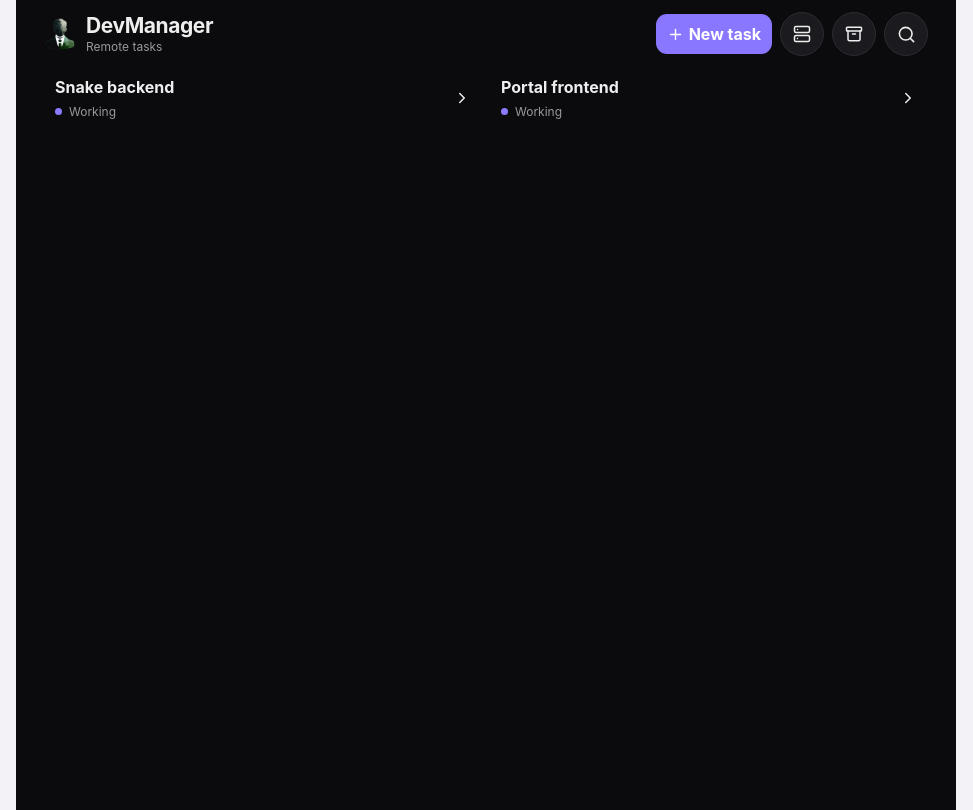
Test: NativeRemoteApp › clears the task filter when search is closed
The image size is (973, 810).
Click the button named "Search tasks" at (906, 34), box [884,12,928,56]
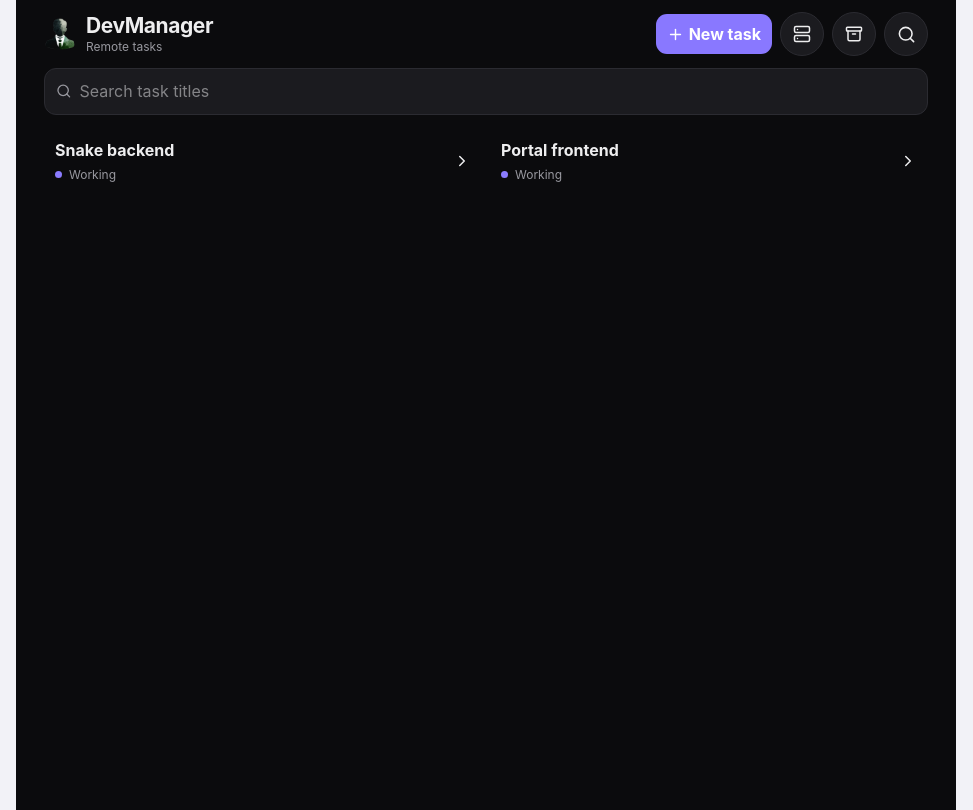
Type "snake" into the search field named "Search tasks" at (498, 91), box [80,69,916,114]
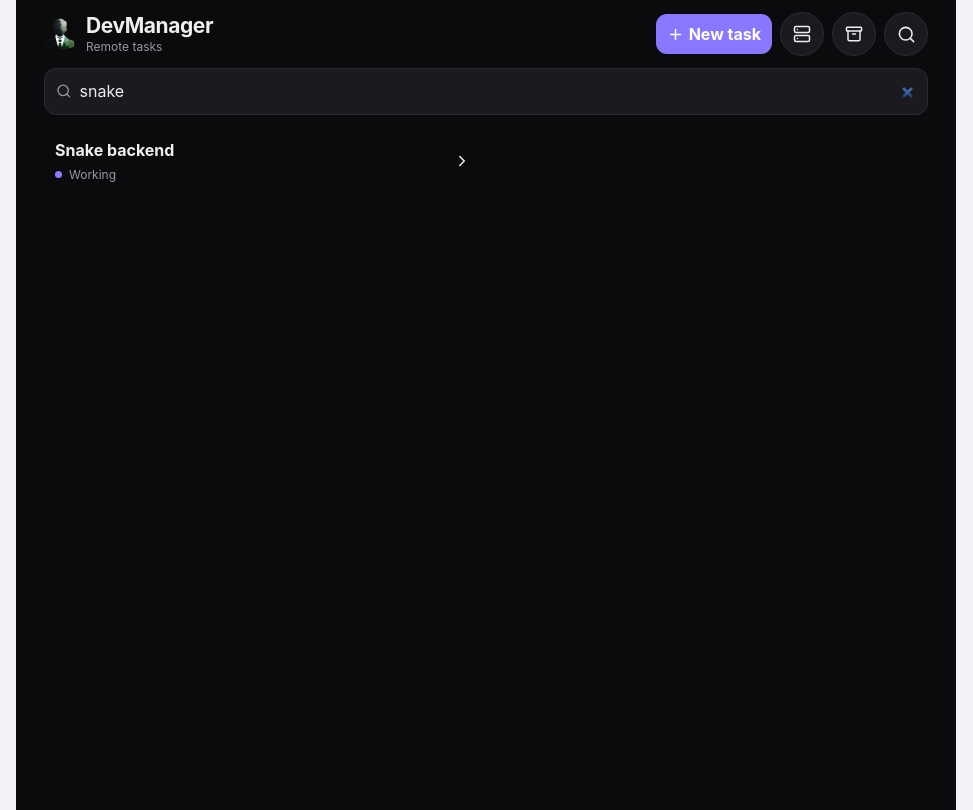
Result: the button "Portal frontend" is gone
Click the button named "Close task search" at (906, 34), box [884,12,928,56]
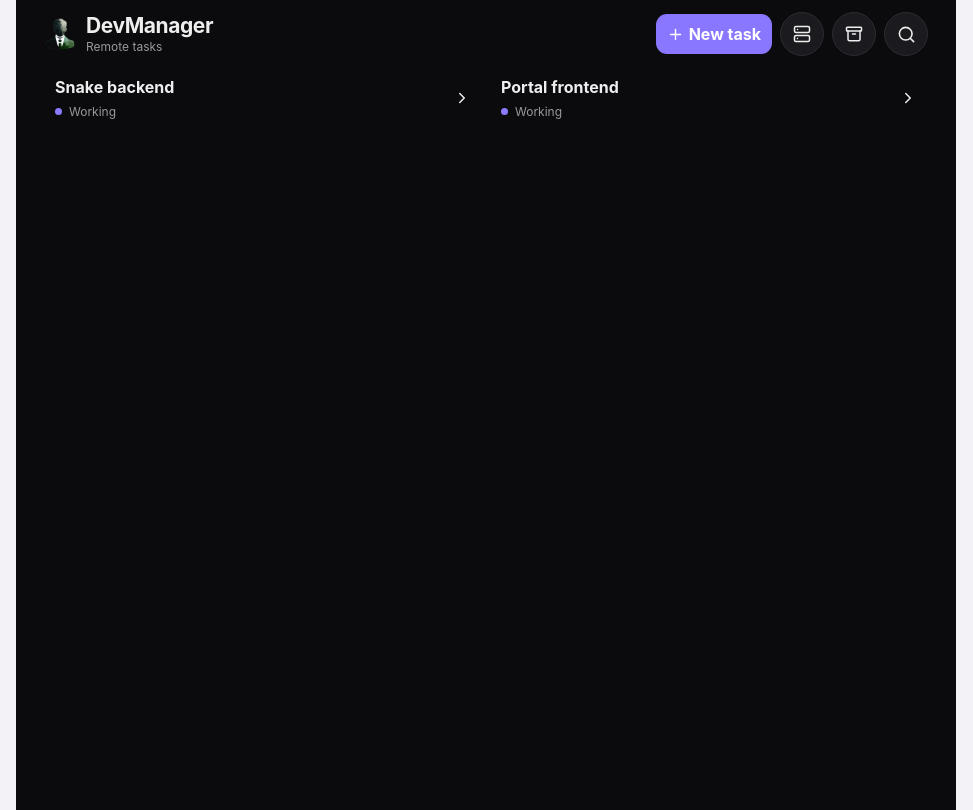
Result: the text "Portal frontend" is shown at [501,75,619,100]
